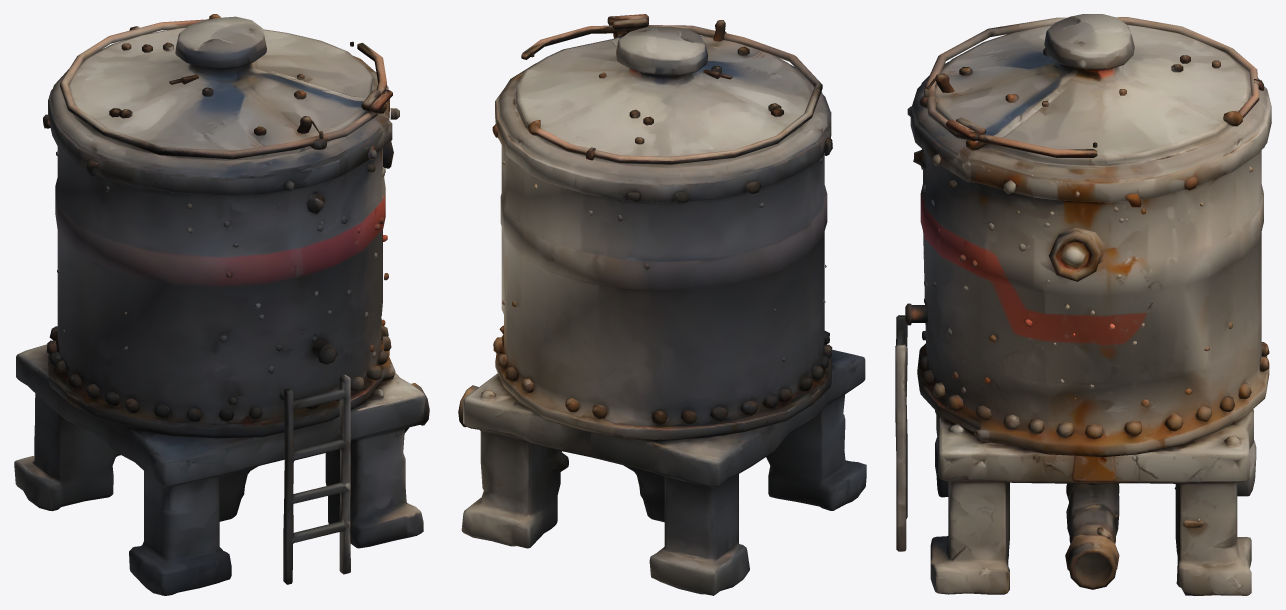
File: water_tank.glb
3 renders of one model, left to right at view 1: azimuth 30°, elevation 25°; view 2: azimuth 150°, elevation 25°; view 3: azimuth 270°, elevation 25°, orthographic. The views are drawn at different scales.
Parts seen in each view (by area): view 1: tripo_node_d9f1330d-bab3-4f8f-b13d-3f8ef9ed4bbb; view 2: tripo_node_d9f1330d-bab3-4f8f-b13d-3f8ef9ed4bbb; view 3: tripo_node_d9f1330d-bab3-4f8f-b13d-3f8ef9ed4bbb.
Part boxes in pixels (box(x1,y1,x2,y2)): tripo_node_d9f1330d-bab3-4f8f-b13d-3f8ef9ed4bbb: box(14, 14, 429, 595); tripo_node_d9f1330d-bab3-4f8f-b13d-3f8ef9ed4bbb: box(458, 14, 866, 595); tripo_node_d9f1330d-bab3-4f8f-b13d-3f8ef9ed4bbb: box(895, 14, 1271, 595).
Bounding box in the file's own units: 1.36 × 1.8 × 1.21.
1 material, 1 textured.
